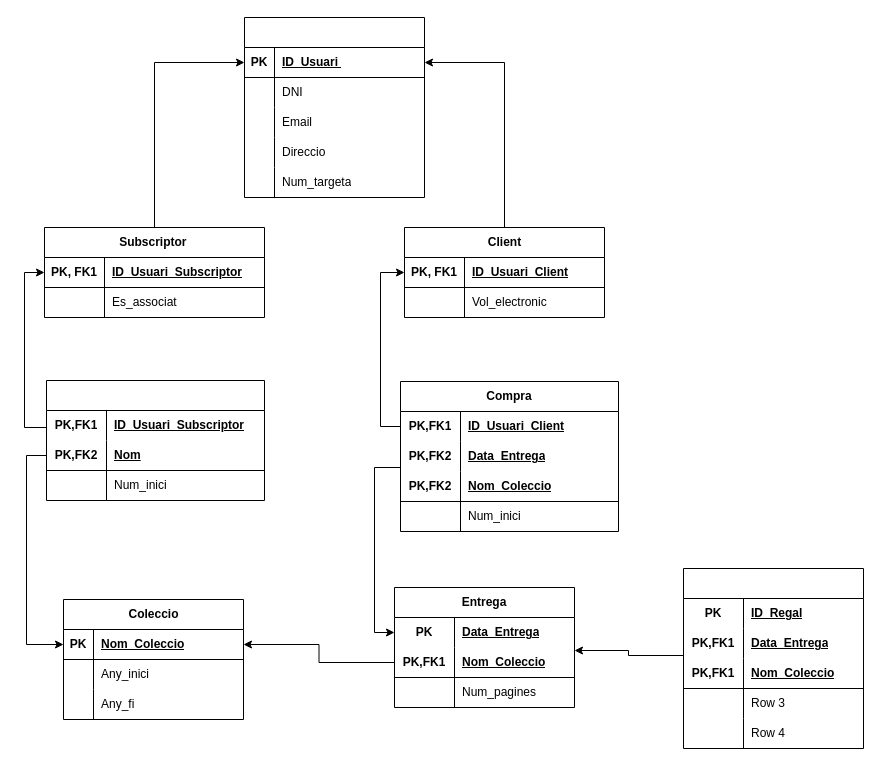
Some shapes in this 881 by 766 pixel diagram are drawn without their labels. Here are the shapes that lost their labels. From the top down, the box of each, then its label:
(244, 16, 424, 198): Persona
(46, 380, 264, 500): Subscriu
(682, 568, 864, 748): Table
